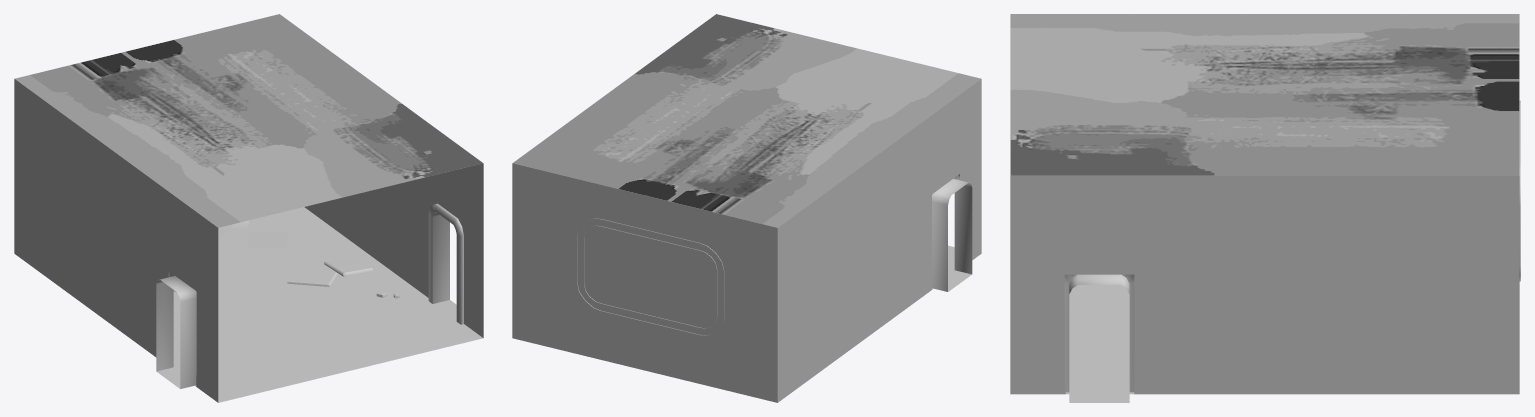
Rendered from MSH_QuestIndustrial_L1_R1_optimized.fbx.
The picture shows the model from 3 angles, left to right: view 1: azimuth 30°, elevation 25°; view 2: azimuth 150°, elevation 25°; view 3: azimuth 270°, elevation 25°; orthographic projection. The views are drawn at different scales.
Parts seen in each view (by area): view 1: lightmap2, MSH_QuestIndustrial_L1_R1_Ceiling_01, lightmap1, lightmap0, MSH_QuestIndustrial_L1_R1_Papers_01; view 2: lightmap2, MSH_QuestIndustrial_L1_R1_Ceiling_01, lightmap1; view 3: lightmap2, MSH_QuestIndustrial_L1_R1_Ceiling_01, lightmap1, lightmap0.
Part boxes in pixels (x1=…): lightmap2: x1=14, y1=79, x2=483, y2=402; MSH_QuestIndustrial_L1_R1_Ceiling_01: x1=15, y1=14, x2=482, y2=227; lightmap1: x1=156, y1=212, x2=456, y2=388; lightmap0: x1=168, y1=203, x2=463, y2=324; MSH_QuestIndustrial_L1_R1_Papers_01: x1=218, y1=220, x2=287, y2=247; lightmap2: x1=512, y1=79, x2=981, y2=402; MSH_QuestIndustrial_L1_R1_Ceiling_01: x1=513, y1=14, x2=980, y2=227; lightmap1: x1=577, y1=179, x2=972, y2=335; lightmap2: x1=1010, y1=175, x2=1519, y2=394; MSH_QuestIndustrial_L1_R1_Ceiling_01: x1=1010, y1=14, x2=1519, y2=175; lightmap1: x1=1069, y1=100, x2=1520, y2=402; lightmap0: x1=1064, y1=274, x2=1134, y2=392.
Size of the model in its own units: 10.3 by 5.9 by 12.4.
